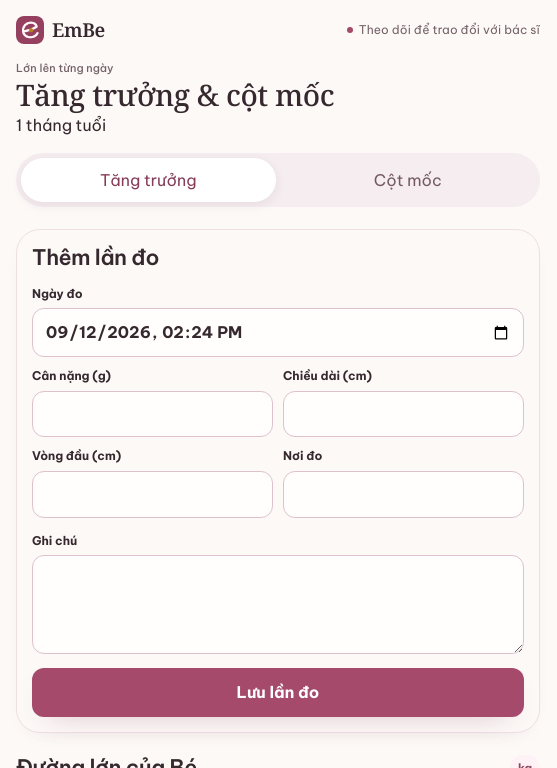
Test: baby development page › does not send an empty growth measurement
The width and height of the screenshot is (557, 768).
Step 1. Click the button "Lưu lần đo" → x=278, y=693, box [32,668,524,717]
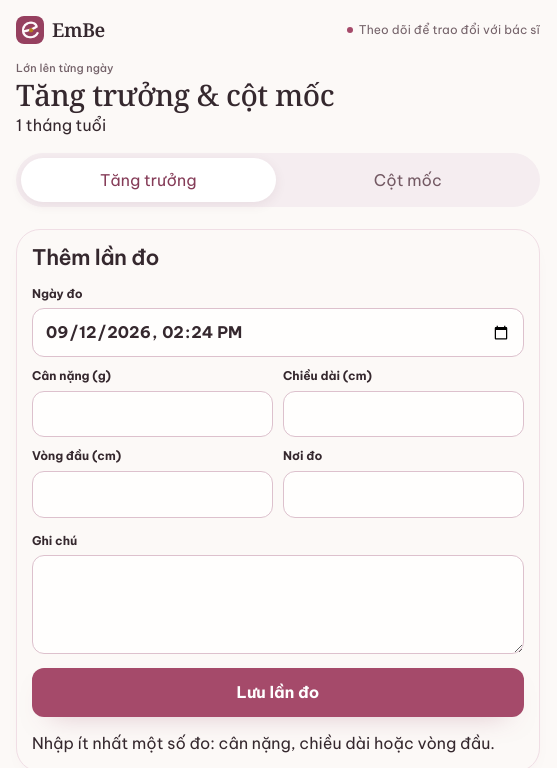
Now the message shows "Nhập ít nhất một số đo", box [32,733,495,753]
